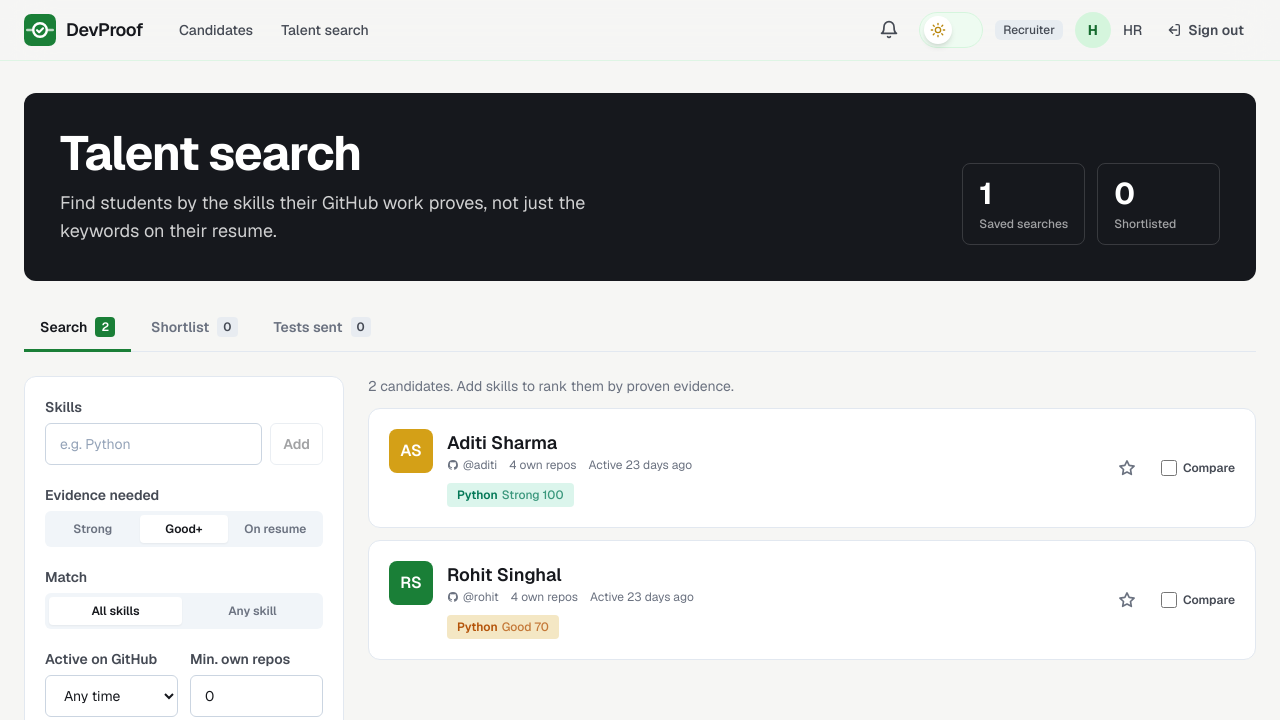
Scenario: TalentSearch page › stars a candidate into the shortlist
This screenshot has width=1280, height=720.
Click the button named "Add Aditi Sharma to shortlist": click(1127, 468) [1109,450,1145,486]
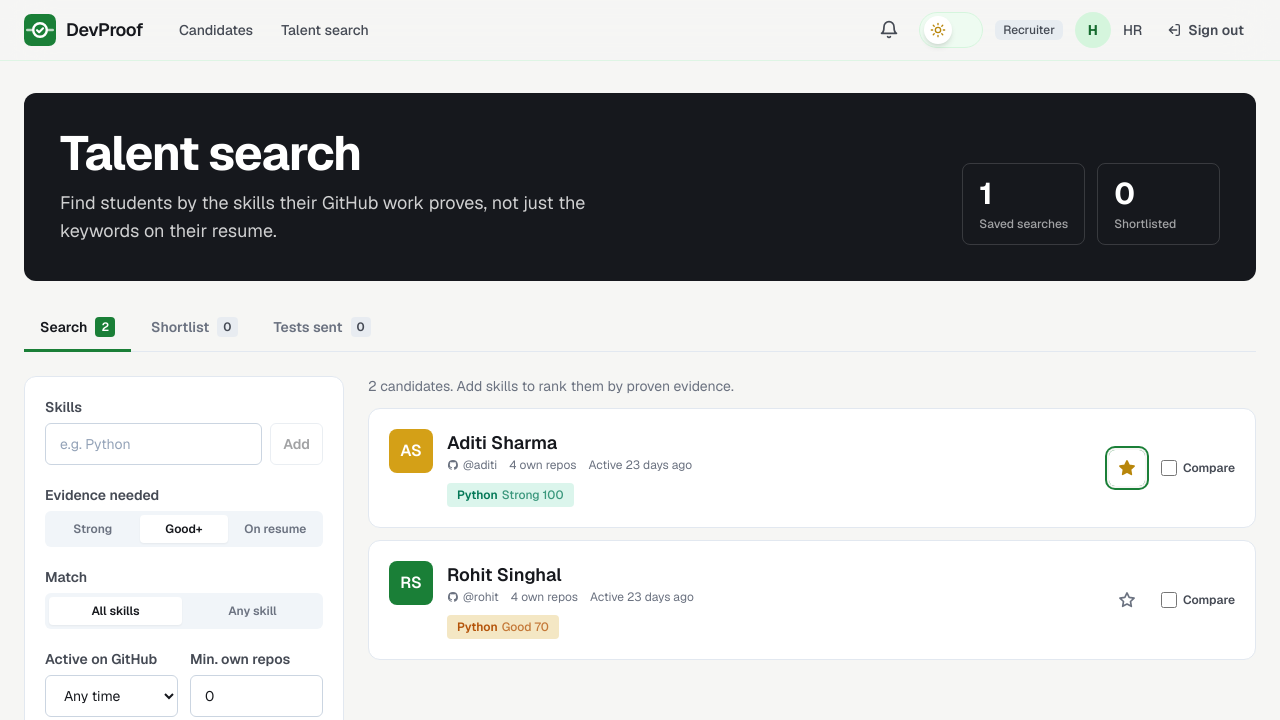
Check: the button named "Remove Aditi Sharma from shortlist" is shown, box [1109,450,1145,486]
